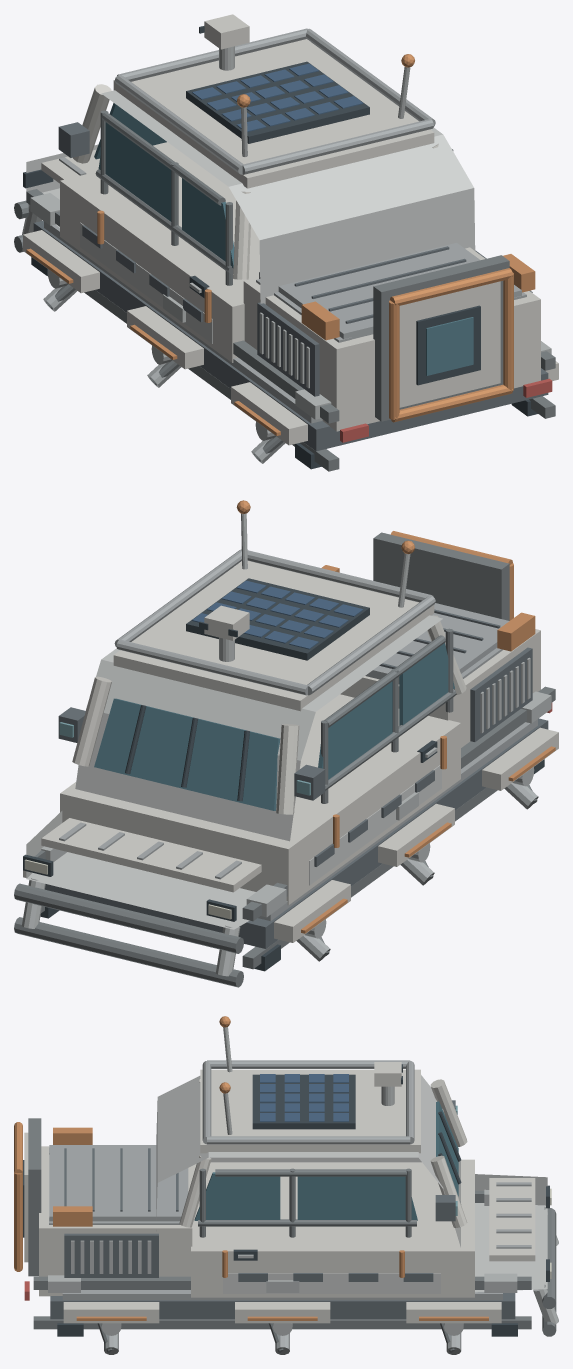
The model's file is rover_chassis.glb.
3 views of the same model, one above another, from view 1: azimuth 30°, elevation 25°; view 2: azimuth 150°, elevation 25°; view 3: azimuth 270°, elevation 25° (orthographic). The views are drawn at different scales.
Parts seen in each view (by area): view 1: rover_material_05, rover_material_04, rover_material_01, rover_material_02, rover_material_00, rover_material_06, rover_material_08, rover_material_07, rover_material_03, rover_material_12, rover_material_10; view 2: rover_material_05, rover_material_04, rover_material_02, rover_material_06, rover_material_01, rover_material_00, rover_material_07, rover_material_03, rover_material_12, rover_material_08; view 3: rover_material_05, rover_material_01, rover_material_04, rover_material_02, rover_material_00, rover_material_06, rover_material_07, rover_material_03, rover_material_08, rover_material_12.
Boxes of the visible parts, x1,y1,x2,y2 form: rover_material_05: (23,14,558,445); rover_material_04: (26,42,475,343); rover_material_01: (43,28,526,463); rover_material_02: (14,110,555,471); rover_material_00: (33,122,548,451); rover_material_06: (94,103,473,375); rover_material_08: (26,54,535,435); rover_material_07: (23,26,537,469); rover_material_03: (22,46,551,440); rover_material_12: (192,63,363,131); rover_material_10: (340,378,552,442); rover_material_05: (23,561,558,942); rover_material_04: (26,568,442,929); rover_material_02: (14,532,555,987); rover_material_06: (94,643,454,810); rover_material_01: (59,549,538,961); rover_material_00: (45,609,548,948); rover_material_07: (23,578,544,971); rover_material_03: (22,513,551,976); rover_material_12: (192,580,363,649); rover_material_08: (236,500,555,933); rover_material_05: (24,1062,535,1323); rover_material_01: (49,1060,531,1354); rover_material_04: (156,1075,547,1293); rover_material_02: (28,1118,556,1352); rover_material_00: (50,1100,515,1319); rover_material_06: (194,1101,458,1220); rover_material_07: (23,1064,549,1336); rover_material_03: (48,1027,558,1335); rover_material_08: (14,1016,488,1320); rover_material_12: (260,1074,348,1121).
Bounding box in the file's own units: 3.27 × 3.37 × 6.62.
